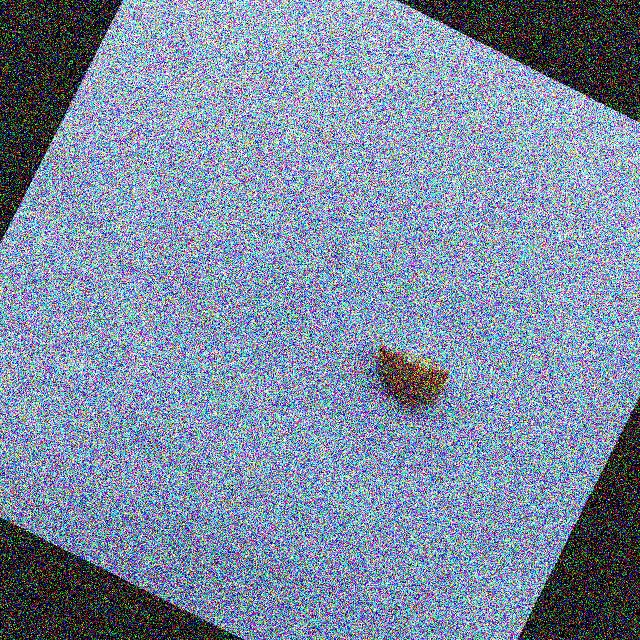grade4: (352, 327, 462, 424)
